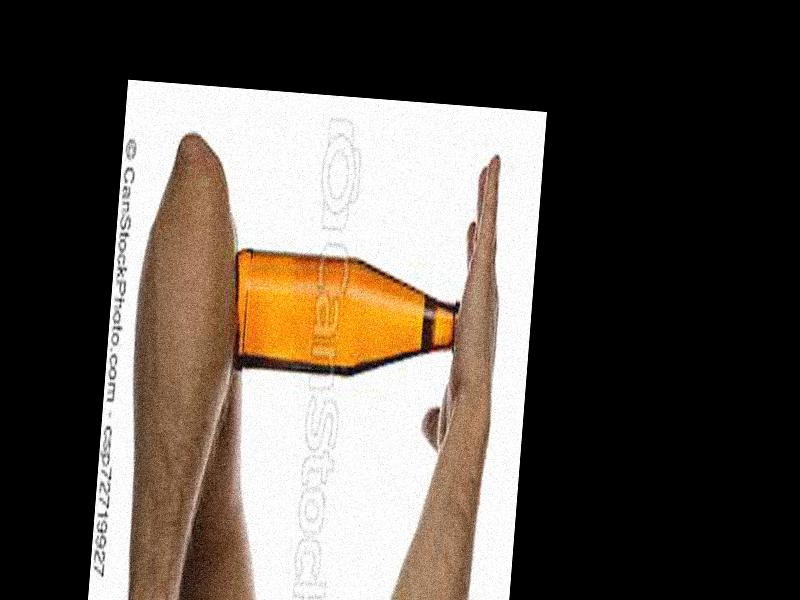Beer: (231, 245, 465, 390)
